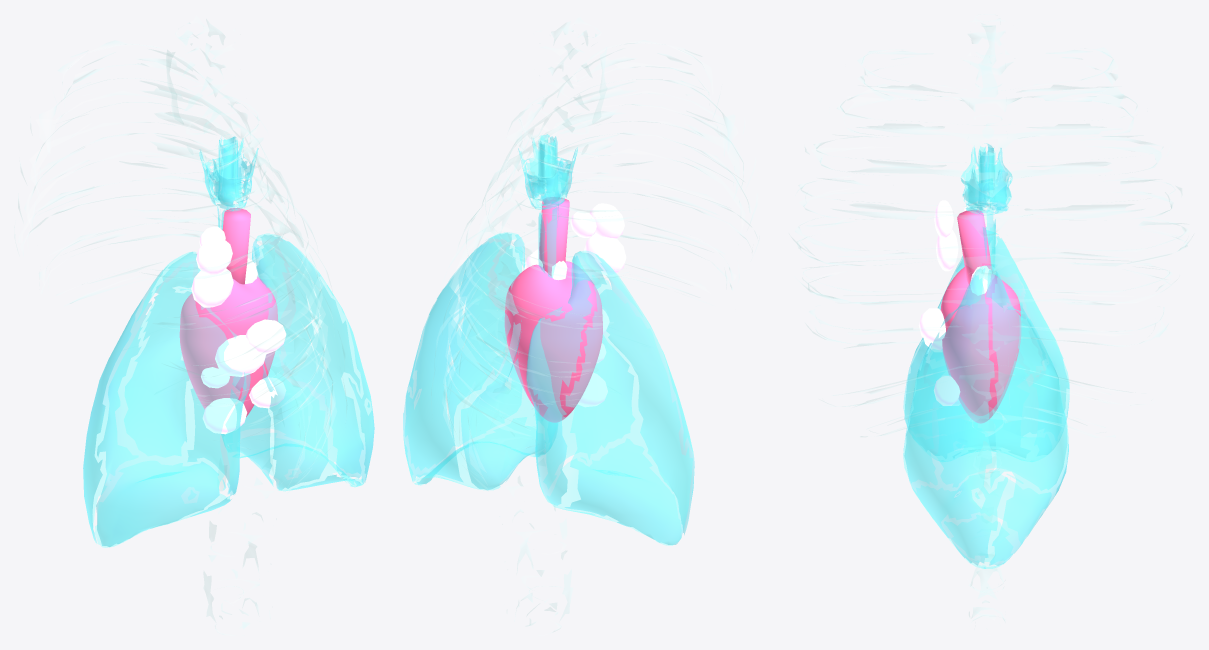
The model's file is heart-anatomical-progressing-1.glb.
3 views of the same model, side by side, from view 1: azimuth 30°, elevation 25°; view 2: azimuth 150°, elevation 25°; view 3: azimuth 270°, elevation 25° (orthographic). The views are drawn at different scales.
Parts seen in each view (by area): view 1: Lungs, Ribcage, Heart, AortaAnat, AmyloidAnat_5, AmyloidAnat_7, AmyloidAnat_0, AmyloidAnat_2, AmyloidAnat_8, AmyloidAnat_6; view 2: Lungs, Ribcage, Heart, AortaAnat, AmyloidAnat_0, AmyloidAnat_2, AmyloidAnat_7, AmyloidAnat_3; view 3: Lungs, Ribcage, Heart, AortaAnat, AmyloidAnat_8, AmyloidAnat_0, AmyloidAnat_6, AmyloidAnat_2.
Part boxes in pixels (x1,y1,x2,y2): Lungs: [83, 136, 374, 547]; Ribcage: [17, 16, 346, 635]; Heart: [179, 276, 278, 416]; AortaAnat: [222, 208, 250, 284]; AmyloidAnat_5: [215, 335, 265, 376]; AmyloidAnat_7: [202, 398, 247, 434]; AmyloidAnat_0: [191, 268, 233, 307]; AmyloidAnat_2: [196, 237, 232, 274]; AmyloidAnat_8: [246, 319, 286, 354]; AmyloidAnat_6: [249, 377, 286, 408]; Lungs: [403, 134, 694, 545]; Ribcage: [431, 17, 758, 635]; Heart: [504, 261, 602, 422]; AortaAnat: [539, 197, 569, 276]; AmyloidAnat_0: [584, 234, 626, 275]; AmyloidAnat_2: [589, 203, 624, 238]; AmyloidAnat_7: [578, 372, 607, 407]; AmyloidAnat_3: [570, 211, 596, 237]; Lungs: [903, 143, 1069, 568]; Ribcage: [792, 15, 1189, 620]; Heart: [940, 267, 1020, 423]; AortaAnat: [957, 210, 991, 285]; AmyloidAnat_8: [918, 308, 945, 342]; AmyloidAnat_0: [936, 229, 958, 271]; AmyloidAnat_6: [934, 375, 960, 405]; AmyloidAnat_2: [934, 200, 953, 238].
Size of the model in its own units: 0.9455 by 1.94 by 1.21.
